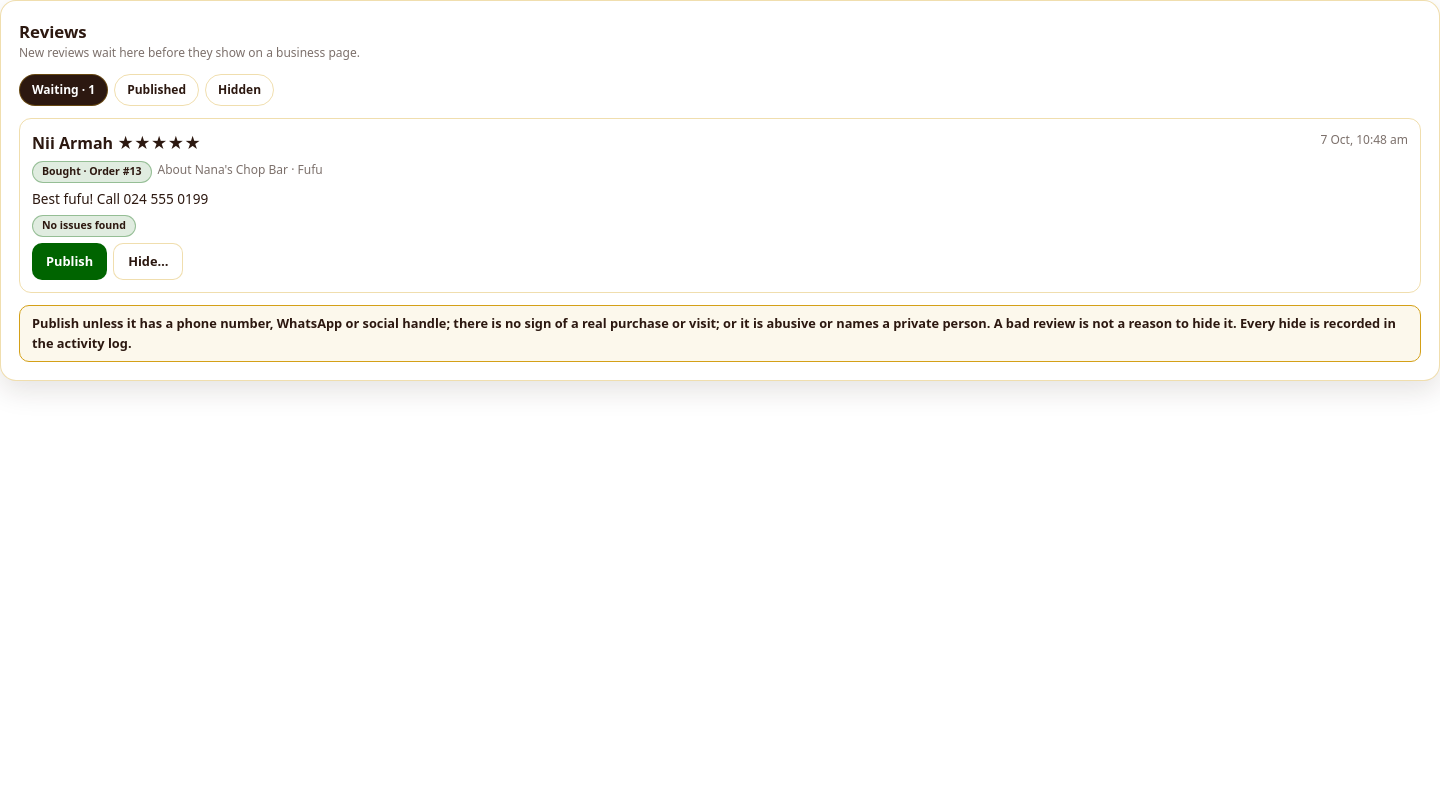
Test: SupportReviewsPanel › will not hide without a reason
Click the button "Hide…" at (148, 262), box [113, 243, 183, 280]
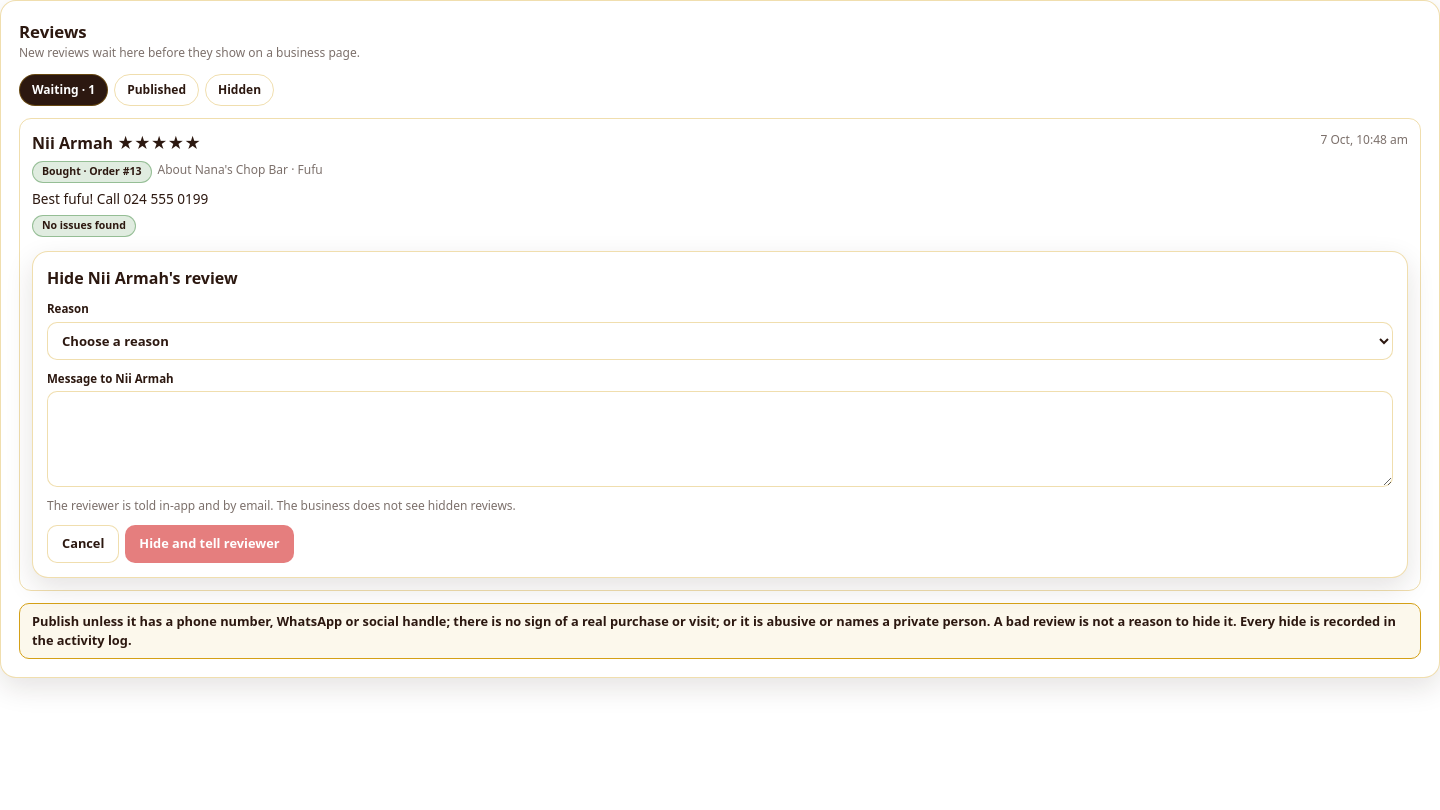
Result: the button "Hide and tell reviewer" is disabled at [125, 525, 294, 563]
